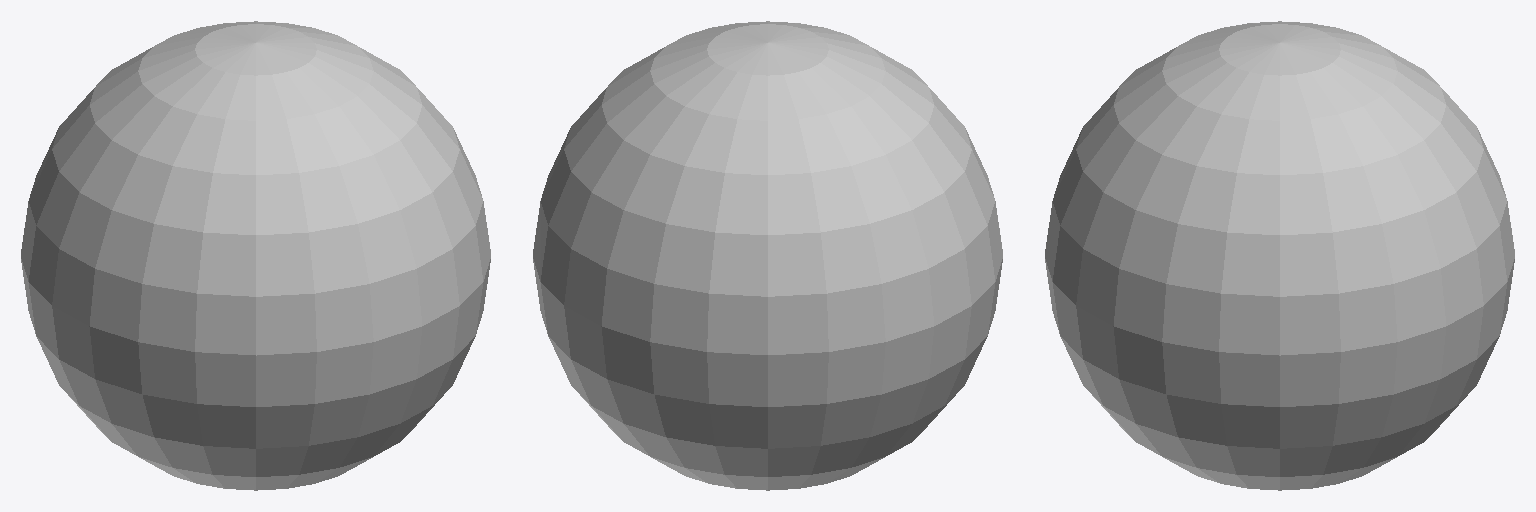
Rendered from Ball.obj.
3 renders of one model, left to right at view 1: azimuth 30°, elevation 25°; view 2: azimuth 150°, elevation 25°; view 3: azimuth 270°, elevation 25°, orthographic.
Parts seen in each view (by area): view 1: Ball.001_Untitled.001; view 2: Ball.001_Untitled.001; view 3: Ball.001_Untitled.001.
Boxes of the visible parts, <box> form: Ball.001_Untitled.001: <box>21,21,490,490</box>; Ball.001_Untitled.001: <box>533,21,1002,490</box>; Ball.001_Untitled.001: <box>1045,21,1514,490</box>.
Bounding box in the file's own units: 0.0317 × 0.0317 × 0.0317.